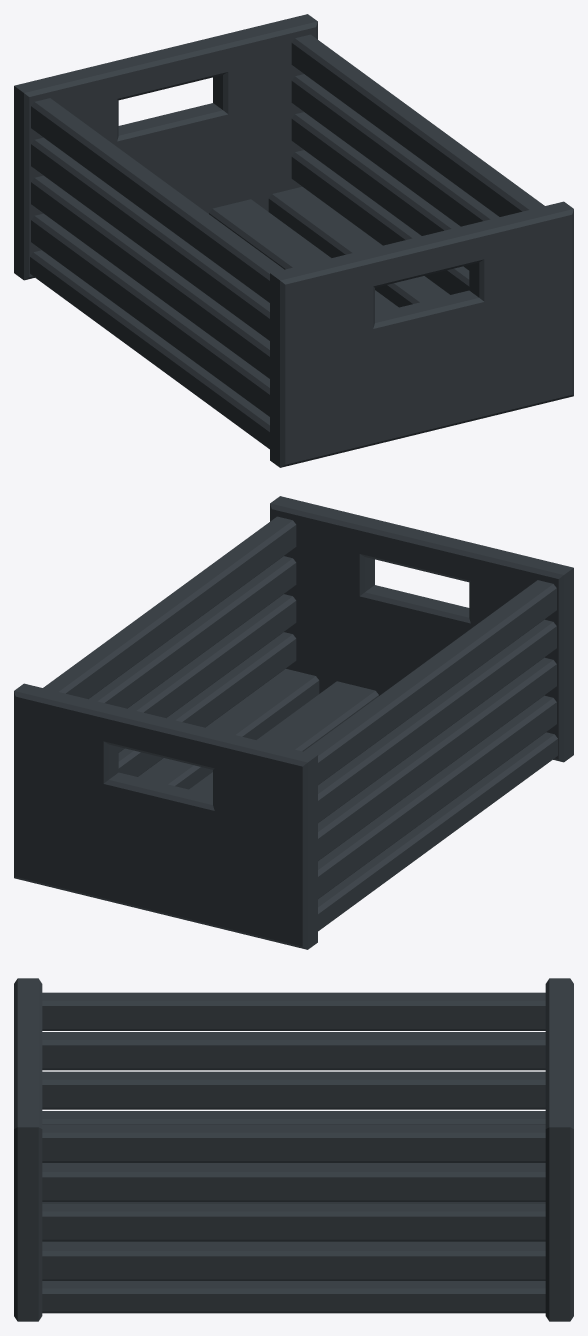
The model's file is cratebox_b.gltf.
3 renders of one model, top to bottom at view 1: azimuth 30°, elevation 25°; view 2: azimuth 150°, elevation 25°; view 3: azimuth 270°, elevation 25°, orthographic. The views are drawn at different scales.
Visible parts, largest first — view 1: cratebox_b001; view 2: cratebox_b001; view 3: cratebox_b001.
Part boxes in pixels (x1=…): cratebox_b001: x1=14, y1=14, x2=573, y2=467; cratebox_b001: x1=14, y1=496, x2=573, y2=949; cratebox_b001: x1=14, y1=978, x2=573, y2=1321.
Size of the model in its own units: 0.512 by 0.312 by 0.8141.
Materials: 1 (1 with a texture image).
